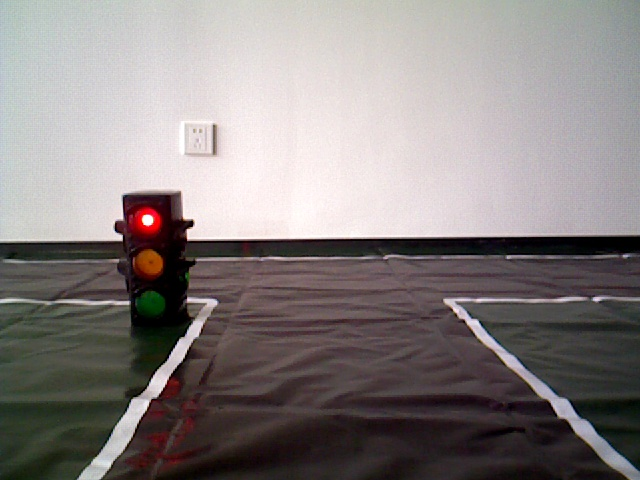red: (124, 198, 181, 330)
